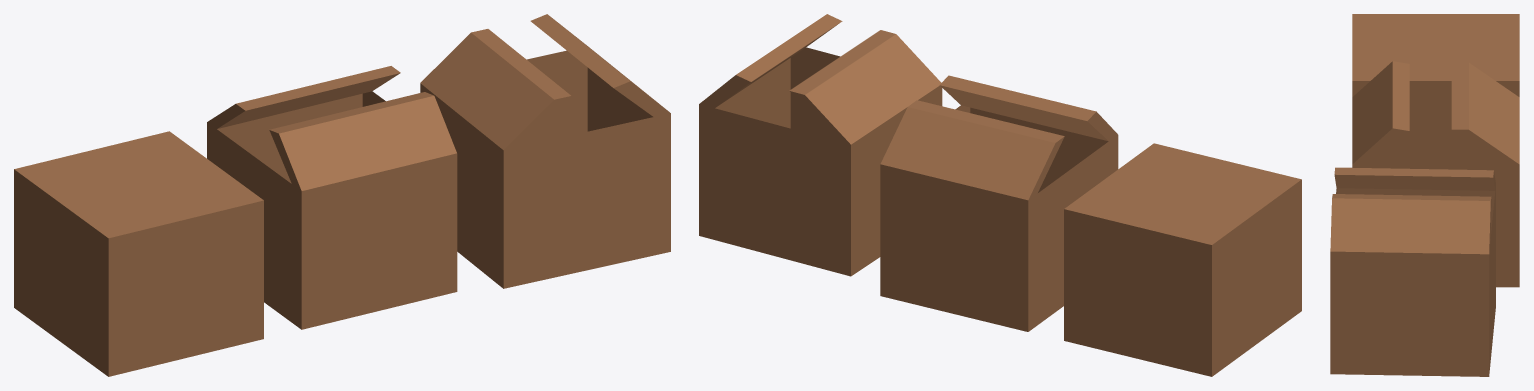
Rendered from carton.fbx.
3 renders of one model, left to right at view 1: azimuth 30°, elevation 25°; view 2: azimuth 150°, elevation 25°; view 3: azimuth 270°, elevation 25°, orthographic. The views are drawn at different scales.
Parts seen in each view (by area): view 1: Cube.535, Cube.537, Cube.536; view 2: Cube.535, Cube.536, Cube.537; view 3: Cube.537, Cube.536, Cube.535.
Part boxes in pixels (box(x1,y1,x2,y2)): Cube.535: box(14, 131, 263, 376); Cube.537: box(420, 14, 670, 288); Cube.536: box(207, 66, 457, 329); Cube.535: box(1064, 143, 1301, 376); Cube.536: box(880, 75, 1118, 331); Cube.537: box(699, 14, 942, 276); Cube.537: box(1330, 167, 1495, 376); Cube.536: box(1352, 61, 1519, 287); Cube.535: box(1352, 14, 1519, 97).
Bounding box in the file's own units: 226 × 69.76 × 75.27.
